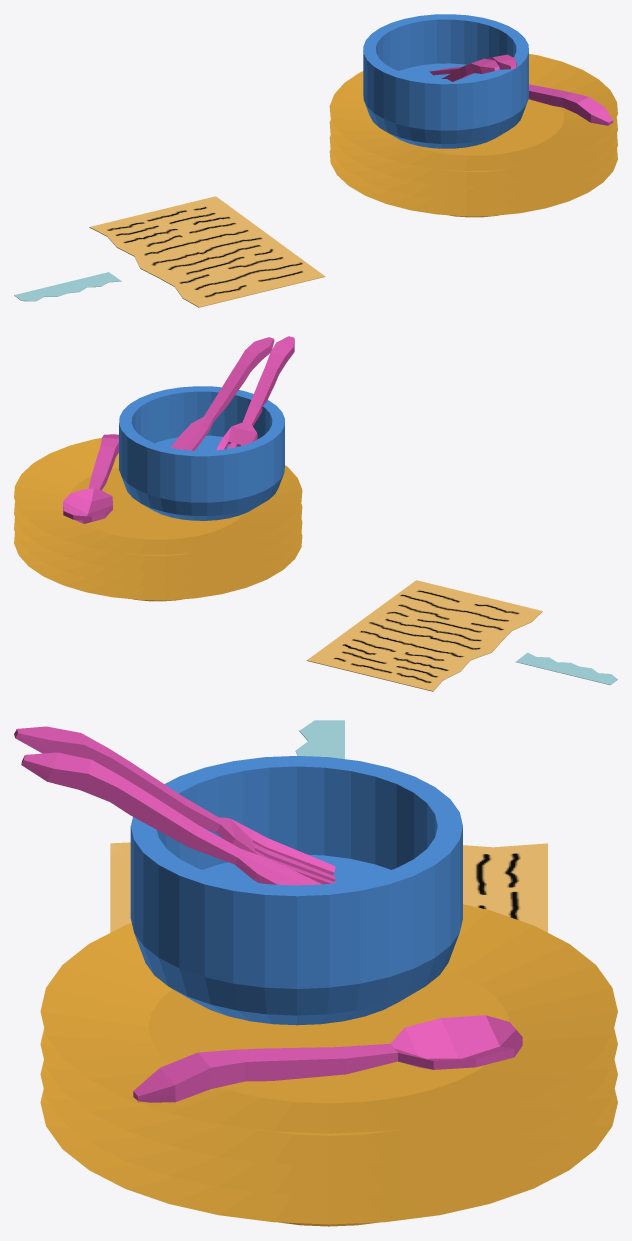
The model's file is Cutlery .fbx.
3 views of the same model, one above another, from view 1: azimuth 30°, elevation 25°; view 2: azimuth 150°, elevation 25°; view 3: azimuth 270°, elevation 25° (orthographic). The views are drawn at different scales.
Visible parts, largest first — view 1: CUTLERY, Plane, Plane.001; view 2: CUTLERY, Plane, Plane.001; view 3: CUTLERY, Plane, Plane.001.
Part boxes in pixels (x1,y1,x2,y2): CUTLERY: [329, 14, 617, 217]; Plane: [89, 196, 325, 307]; Plane.001: [14, 272, 121, 301]; CUTLERY: [14, 336, 302, 601]; Plane: [306, 580, 542, 691]; Plane.001: [516, 652, 617, 685]; CUTLERY: [14, 726, 617, 1226]; Plane: [110, 842, 547, 932]; Plane.001: [295, 720, 344, 758].
Bounding box in the file's own units: 920 × 289 × 414.
9 materials, 1 textured.
